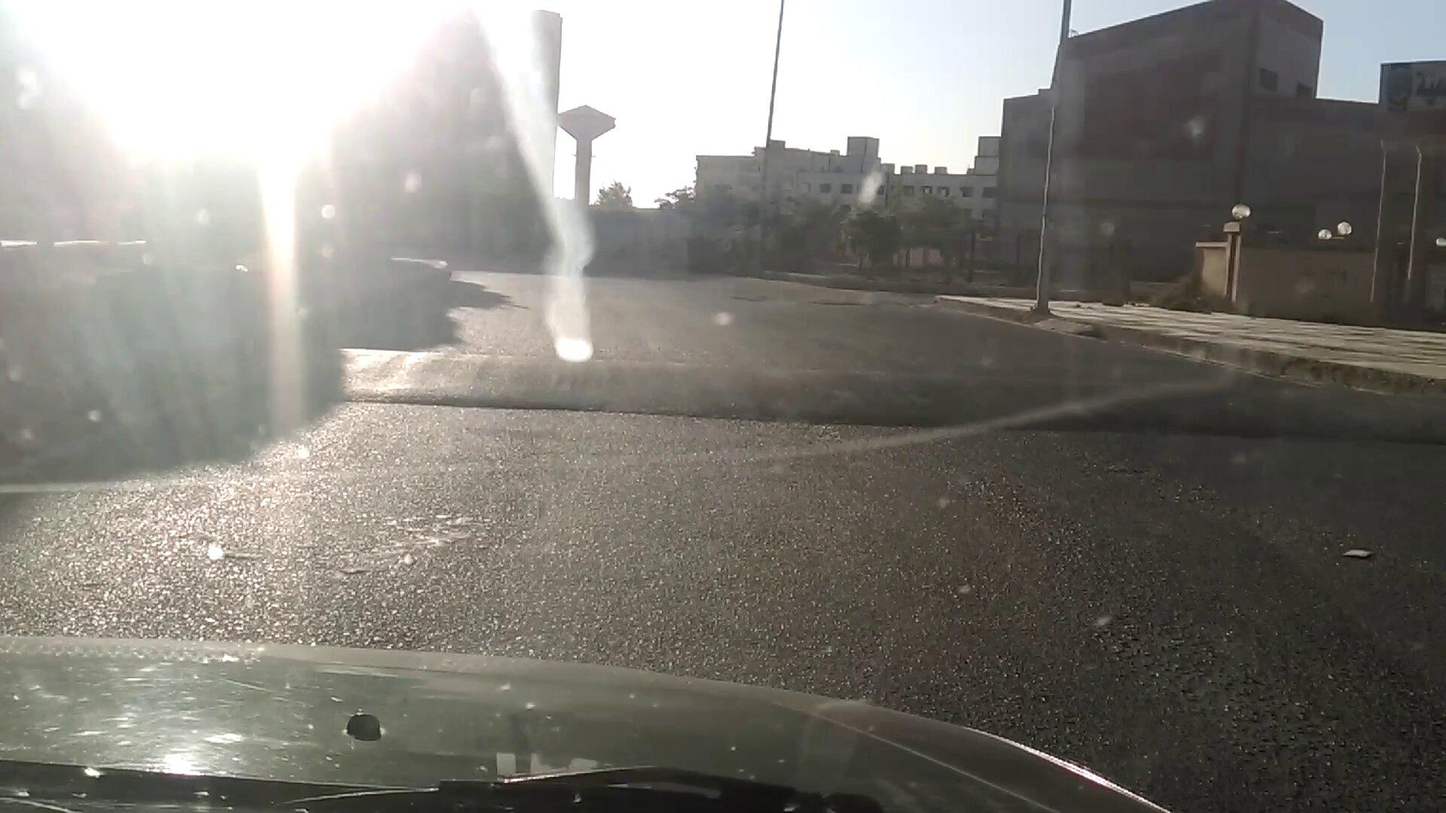Bump: (358, 335, 1433, 450)
